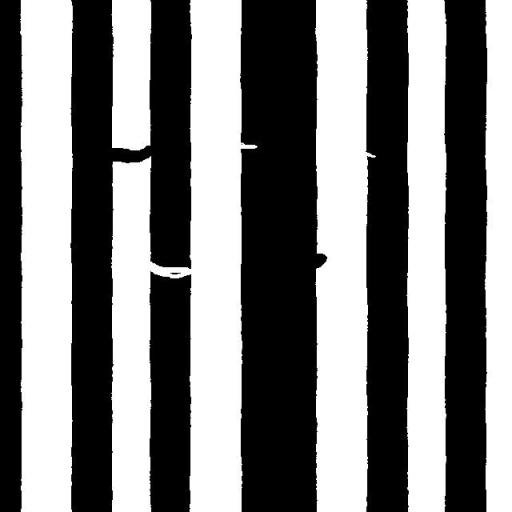mousebite: (228, 134, 265, 156), (357, 144, 383, 165)
open: (138, 252, 200, 286)
short: (96, 138, 161, 170)
spur: (300, 246, 334, 276)
